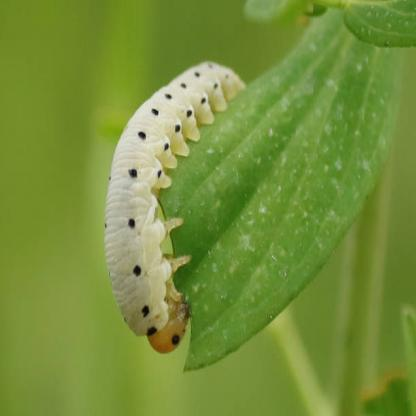sawfly: (101, 52, 249, 360)
